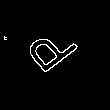P_SW: (10, 20, 76, 80)
